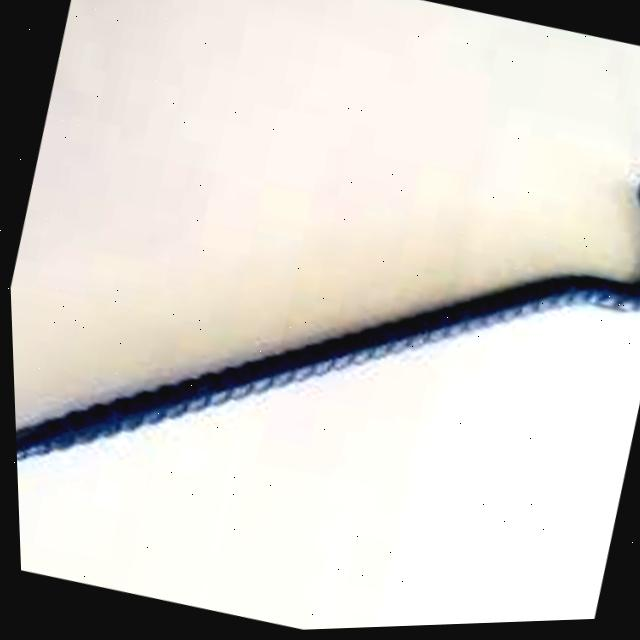crow bar: (13, 181, 640, 463)
